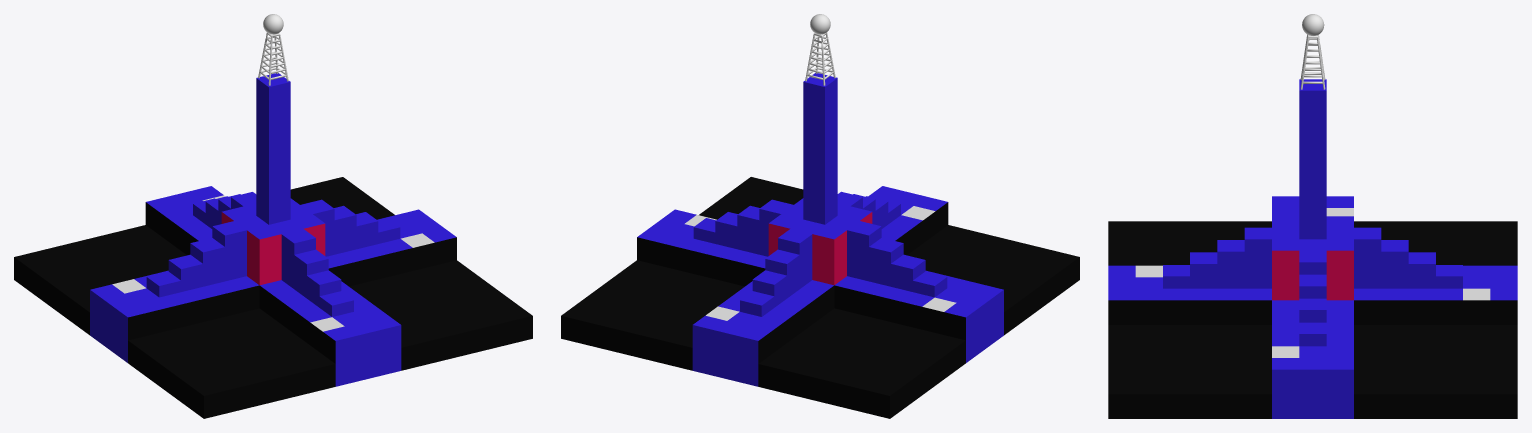
The model's file is board.glb.
3 views of the same model, side by side, from view 1: azimuth 30°, elevation 25°; view 2: azimuth 150°, elevation 25°; view 3: azimuth 270°, elevation 25° (orthographic). The views are drawn at different scales.
Parts seen in each view (by area): view 1: Plane, Plane.002; view 2: Plane, Plane.002; view 3: Plane, Plane.002, Sphere.
Part boxes in pixels (bbox=[...]): Plane: bbox=[14, 73, 532, 418]; Plane.002: bbox=[258, 32, 288, 85]; Plane: bbox=[561, 73, 1079, 418]; Plane.002: bbox=[805, 32, 835, 85]; Plane: bbox=[1108, 79, 1517, 418]; Plane.002: bbox=[1300, 34, 1325, 89]; Sphere: bbox=[1302, 14, 1324, 35].
Size of the model in its own units: 15 by 12.83 by 15.
